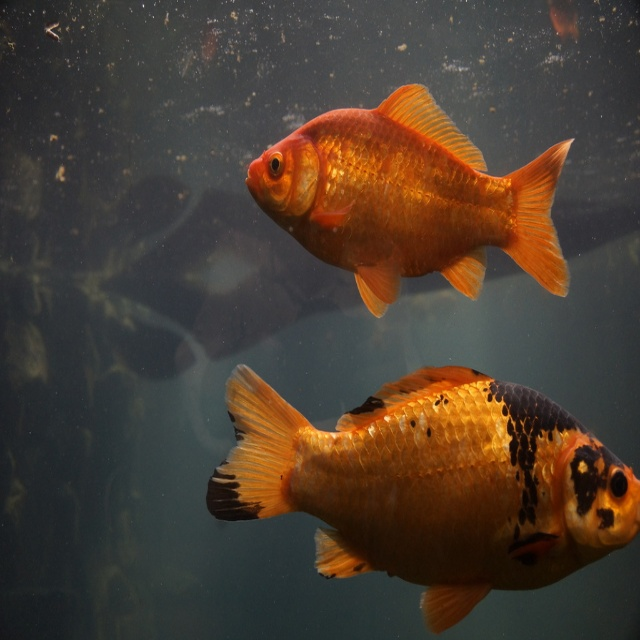Goldfish: (204, 357, 640, 640), (245, 84, 575, 318), (549, 7, 581, 41)
